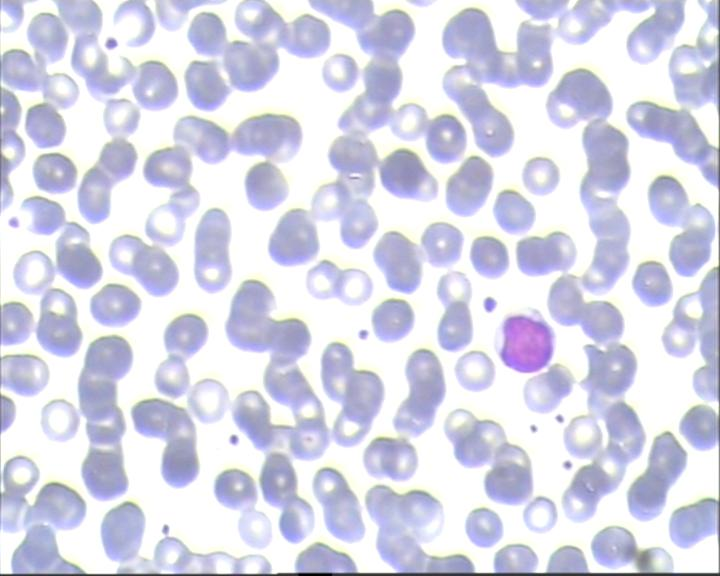lymp: (485, 303, 556, 374)
